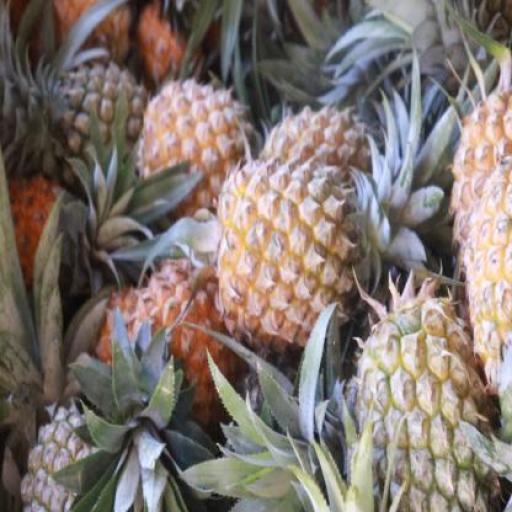------------------------------: (348, 291, 497, 512)
Pineapple - v8 v1: (218, 156, 359, 348), (129, 249, 237, 455), (136, 80, 254, 208), (461, 179, 512, 402)
